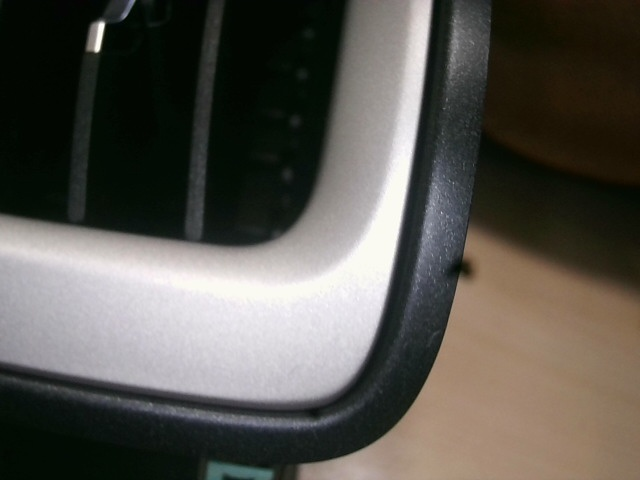NG: (423, 324, 450, 351)
